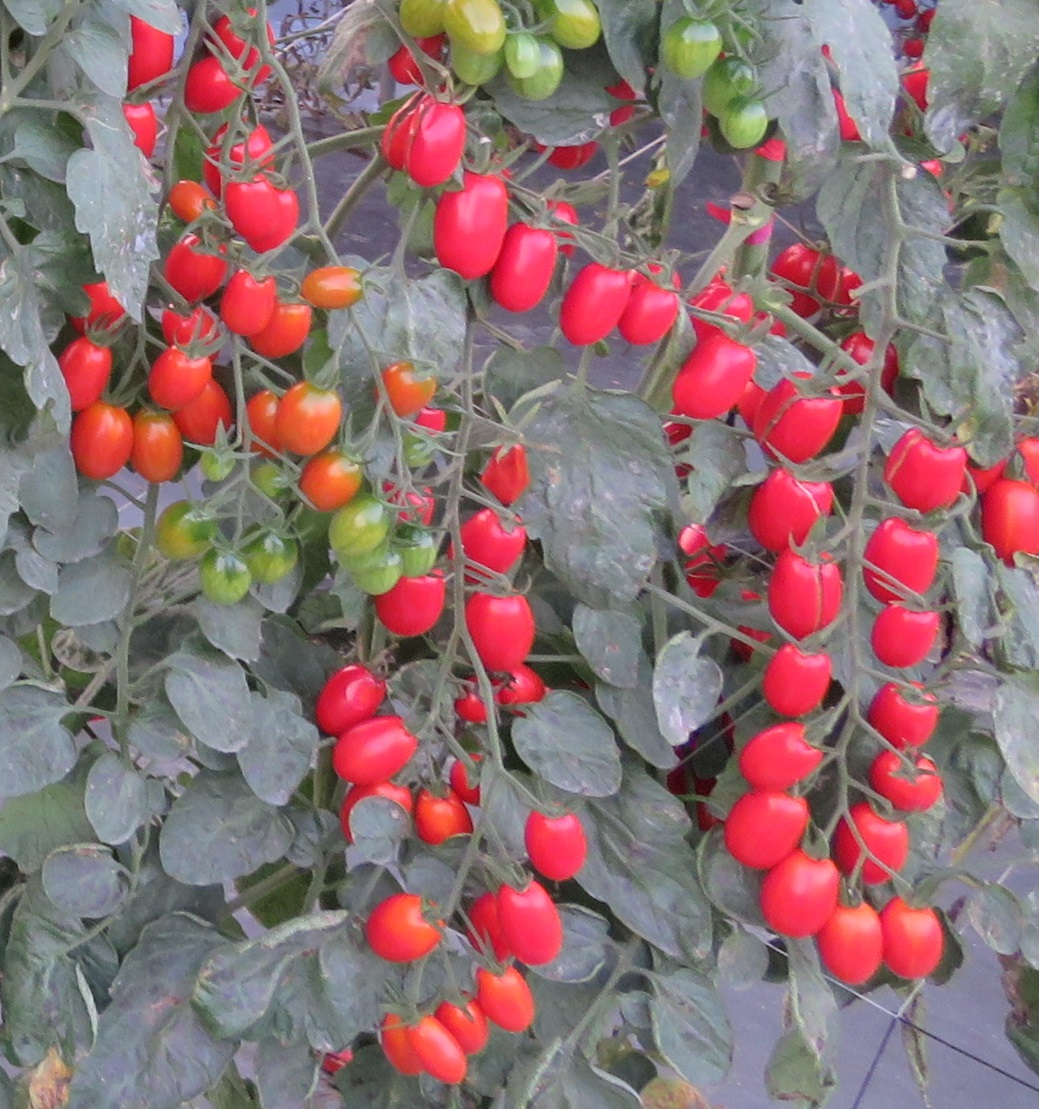green: (151, 495, 221, 573), (658, 12, 718, 85), (435, 1, 510, 57), (325, 499, 392, 558), (714, 93, 772, 155), (194, 551, 251, 614), (337, 551, 404, 603), (703, 58, 756, 118), (549, 1, 606, 53), (251, 533, 296, 597), (195, 442, 243, 488), (504, 33, 539, 76)
orange: (360, 896, 451, 966), (274, 372, 344, 460), (475, 965, 544, 1041), (72, 402, 134, 483), (400, 1018, 469, 1087), (433, 988, 498, 1057), (130, 408, 189, 484), (148, 346, 211, 415), (302, 453, 365, 512), (371, 366, 442, 414), (297, 265, 365, 311), (170, 178, 216, 225)
red: (434, 172, 510, 280), (758, 372, 843, 463), (762, 844, 843, 939), (669, 335, 757, 419), (487, 872, 565, 966), (723, 788, 810, 871), (325, 718, 422, 788), (769, 550, 845, 639), (887, 428, 969, 510), (862, 517, 940, 601), (749, 471, 825, 557), (559, 259, 629, 350), (402, 96, 468, 191), (489, 220, 557, 312), (834, 804, 910, 885), (739, 720, 824, 792), (471, 591, 533, 681), (159, 224, 227, 304), (451, 507, 528, 577), (880, 898, 946, 979), (820, 903, 882, 989), (372, 569, 448, 639), (764, 637, 832, 715), (526, 799, 590, 879), (980, 478, 1039, 563), (314, 666, 383, 735), (623, 276, 682, 354), (866, 608, 940, 665), (217, 265, 273, 340), (872, 758, 945, 815), (223, 172, 274, 242), (876, 685, 930, 751), (415, 786, 474, 845), (66, 338, 114, 408), (122, 101, 162, 157)
